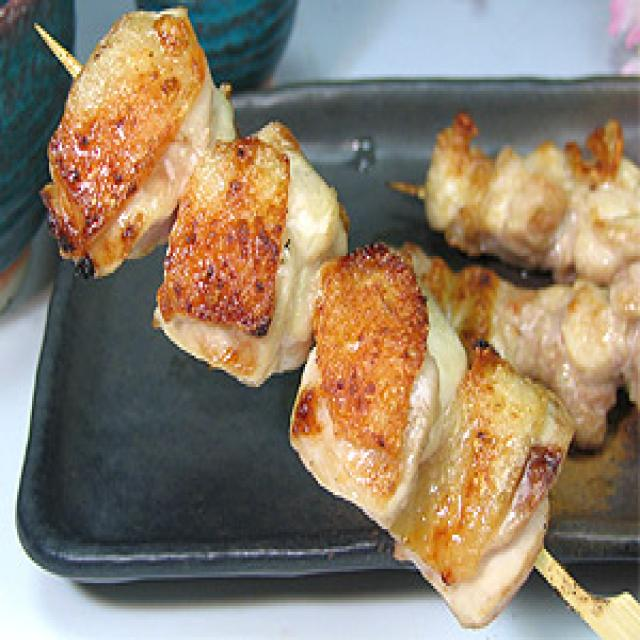烧串烤肉: (21, 0, 640, 640)
